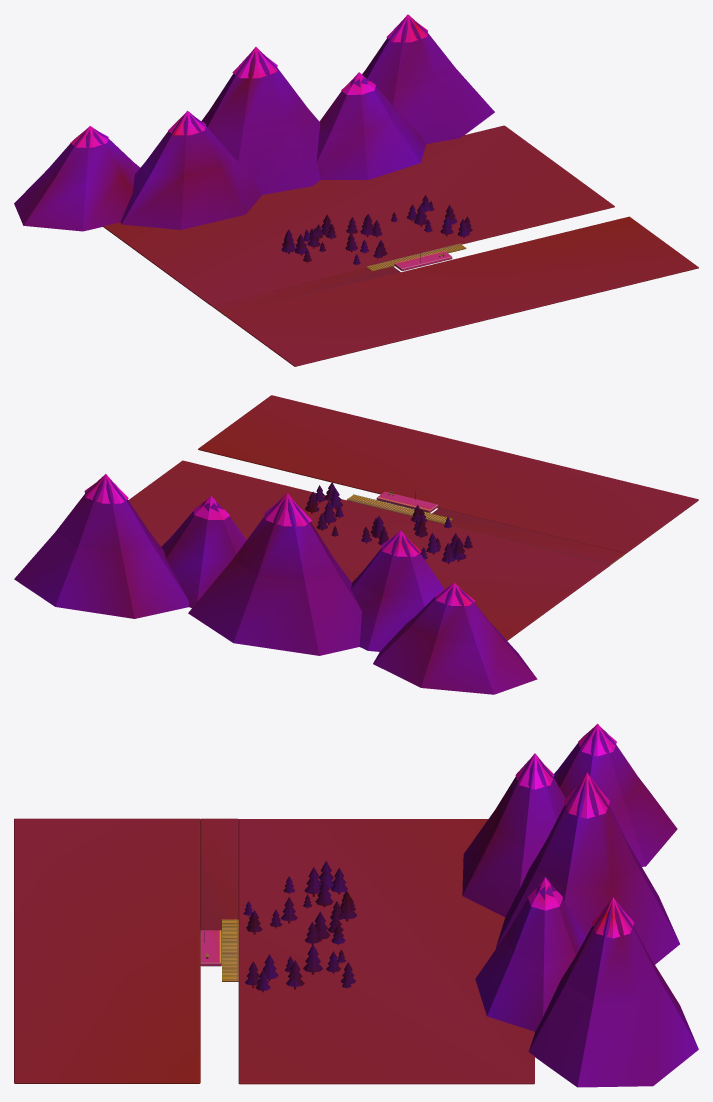
Rendered from ArtCheck_Environment.glb.
The picture shows the model from 3 angles, top to bottom: view 1: azimuth 30°, elevation 25°; view 2: azimuth 150°, elevation 25°; view 3: azimuth 270°, elevation 25°; orthographic projection. The views are drawn at different scales.
Parts seen in each view (by area): view 1: Ground, Mountains, Pines, Platform; view 2: Ground, Mountains, Pines, Track, Platform; view 3: Ground, Mountains, Pines, Track, Platform.
Boxes of the visible parts, box(x1,y1,x2,y2) form: Ground: box(103, 125, 698, 366); Mountains: box(14, 14, 494, 231); Pines: box(281, 195, 472, 265); Platform: box(394, 251, 452, 271); Ground: box(128, 395, 698, 640); Mountains: box(14, 474, 537, 694); Pines: box(305, 482, 472, 564); Track: box(347, 494, 452, 524); Platform: box(376, 491, 438, 512); Ground: box(14, 818, 534, 1084); Mountains: box(462, 723, 698, 1087); Pines: box(243, 861, 356, 992); Track: box(222, 919, 238, 981); Platform: box(200, 930, 221, 966).
Bounding box in the file's own units: 139 × 34.96 × 131.
